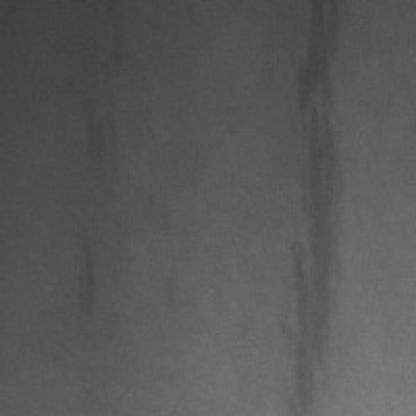inclusion: (280, 0, 353, 412), (77, 106, 121, 177), (67, 237, 104, 314)
